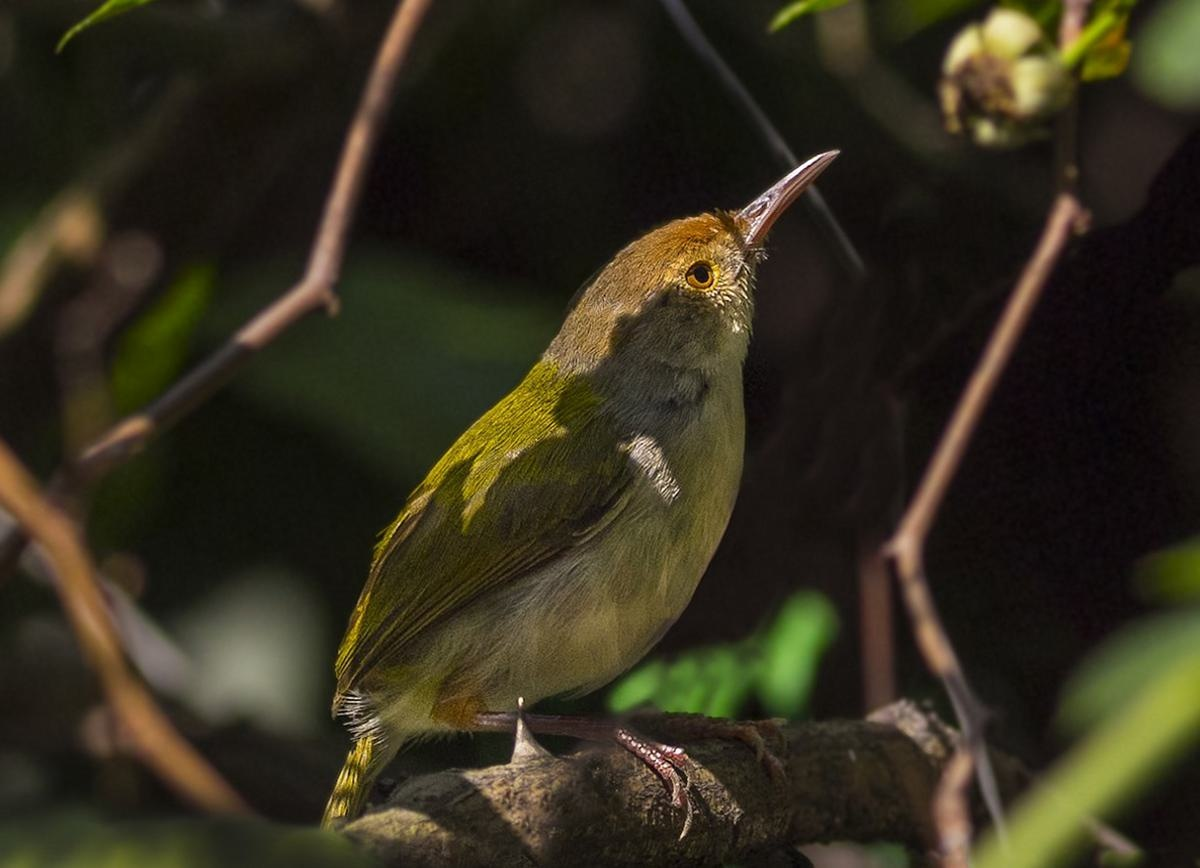tailorbird: (285, 127, 873, 819)
